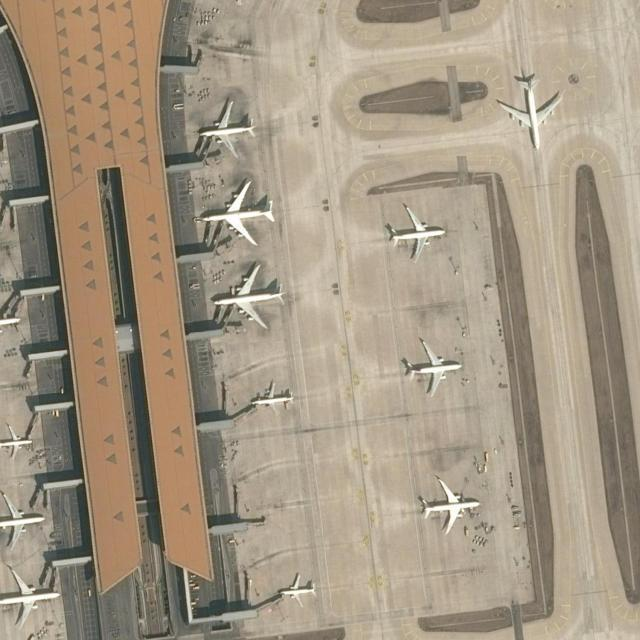Aircraft: (492, 71, 562, 153), (203, 179, 275, 247), (214, 266, 286, 328), (385, 202, 449, 264), (421, 468, 481, 531), (200, 95, 259, 156), (400, 337, 462, 395), (0, 571, 61, 622), (0, 493, 46, 553), (252, 382, 295, 416), (0, 294, 25, 352), (0, 426, 36, 464), (276, 575, 318, 603)
